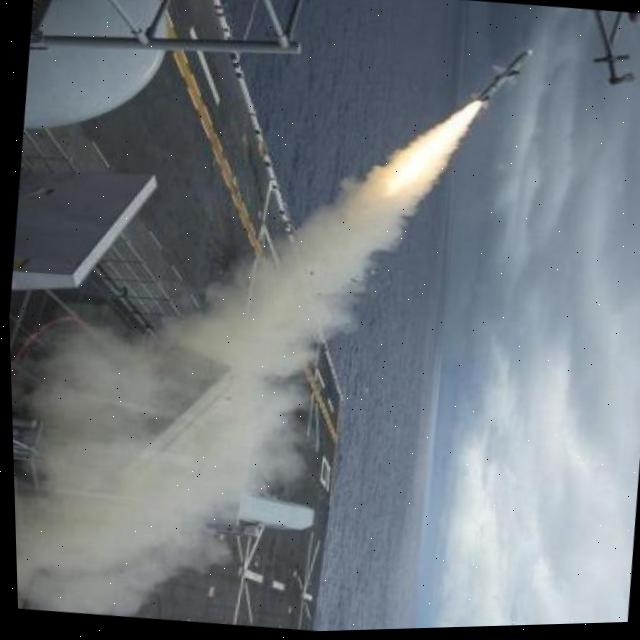missile: (477, 44, 537, 113)
